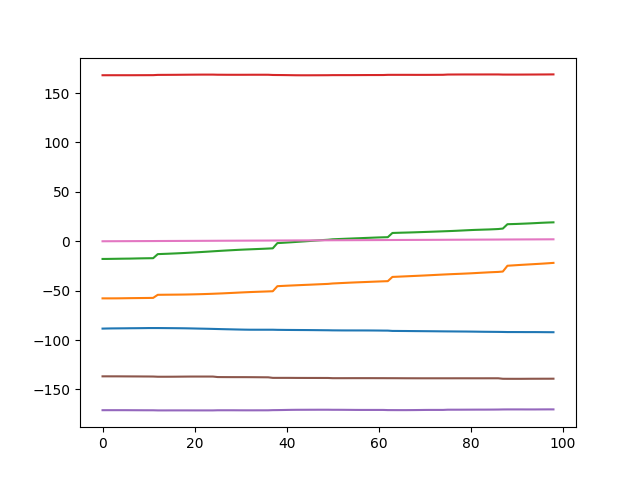Too_Slow_Down: (1, 1, 640, 475)
